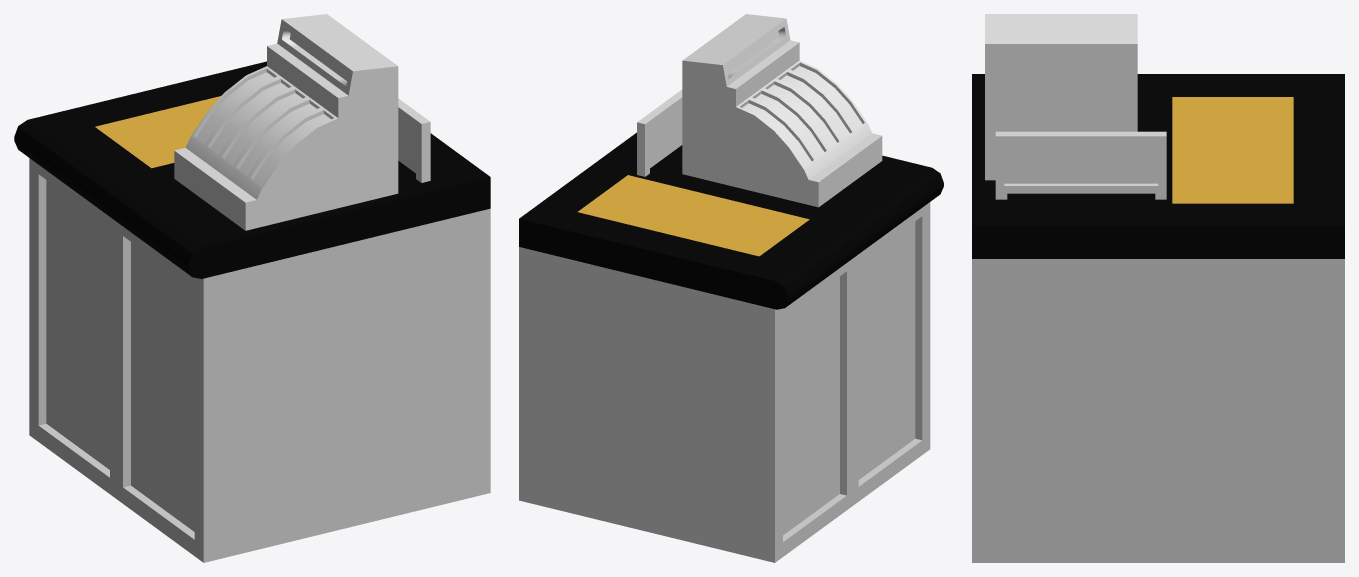
The model's file is deliverycounter.fbx.
3 renders of one model, left to right at view 1: azimuth 30°, elevation 25°; view 2: azimuth 150°, elevation 25°; view 3: azimuth 270°, elevation 25°, orthographic. The views are drawn at different scales.
Parts seen in each view (by area): view 1: Cube; view 2: Cube; view 3: Cube.
Boxes of the visible parts, <box> form: Cube: <box>14,14,490,562</box>; Cube: <box>519,14,943,562</box>; Cube: <box>972,14,1344,562</box>.
Size of the model in its own units: 200 by 284 by 200.
